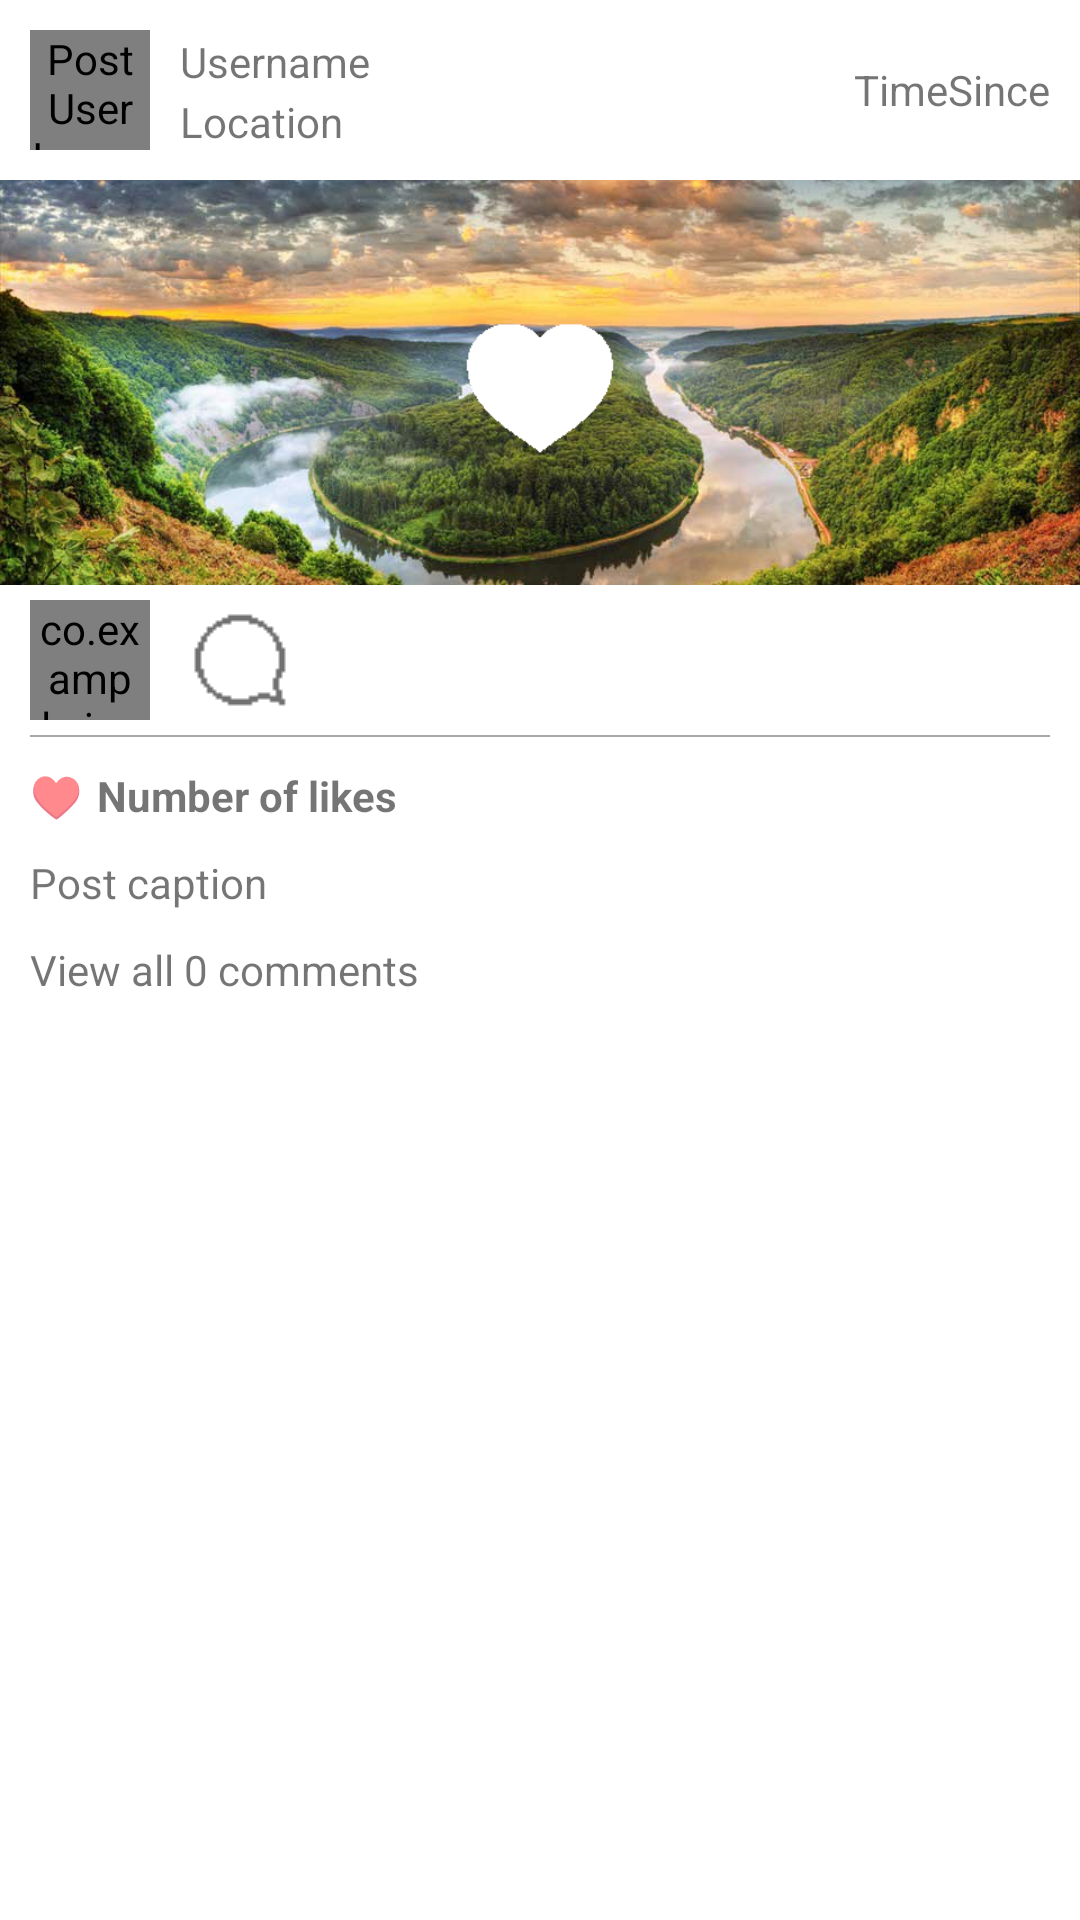

Screen size 1080 x 1920. Icon name, then its box in pixels as [x1=x1, y1=y1, x2=x2, y2=y2]:
comment: [x1=194, y1=614, x2=286, y2=706]
